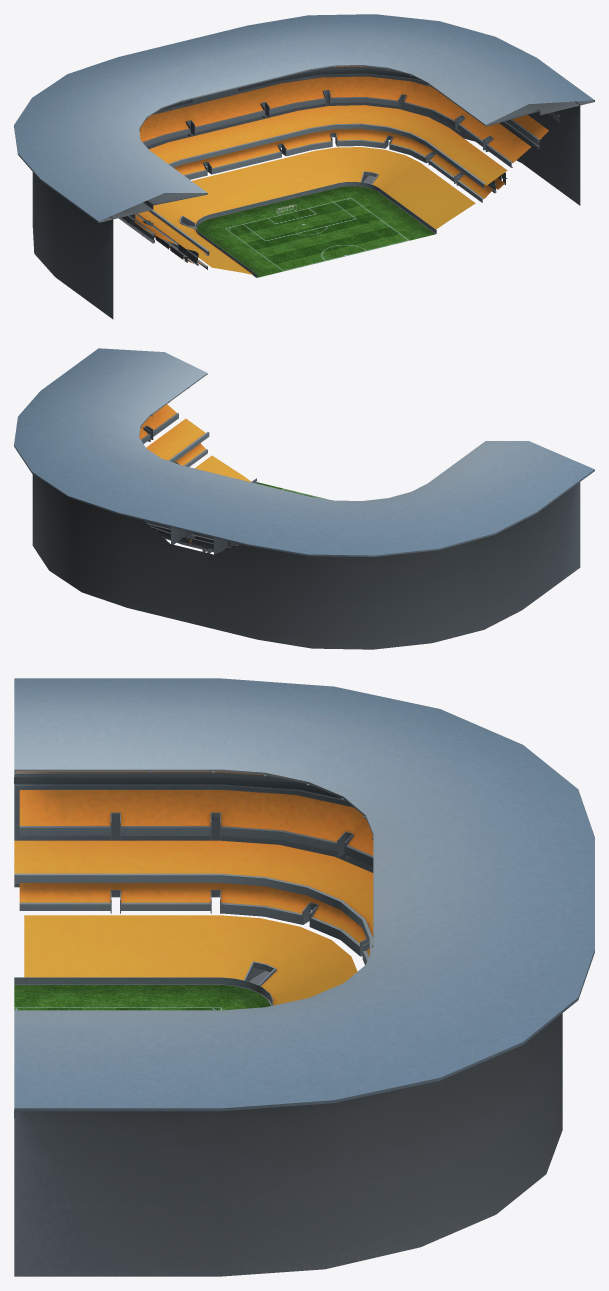
File: lapangan.FBX
3 views of the same model, one above another, from view 1: azimuth 30°, elevation 25°; view 2: azimuth 150°, elevation 25°; view 3: azimuth 270°, elevation 25° (orthographic). The views are drawn at different scales.
Parts seen in each view (by area): view 1: field, Object01, Object06; view 2: field, Object01; view 3: field, Object01, Object06.
Boxes of the visible parts, bbox=[...] form: field: bbox=[14, 14, 594, 277]; Object01: bbox=[32, 76, 580, 319]; Object06: bbox=[121, 69, 559, 263]; field: bbox=[14, 348, 594, 557]; Object01: bbox=[32, 474, 580, 649]; field: bbox=[14, 678, 594, 1111]; Object01: bbox=[14, 789, 562, 1276]; Object06: bbox=[14, 777, 341, 1118].
Size of the model in its own units: 27385 by 6025 by 15637.
